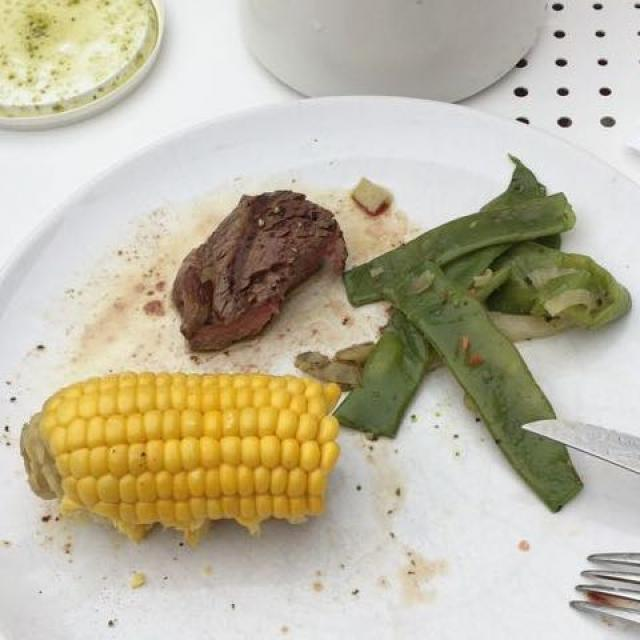beef: (174, 191, 343, 350)
corn: (27, 370, 335, 534)
